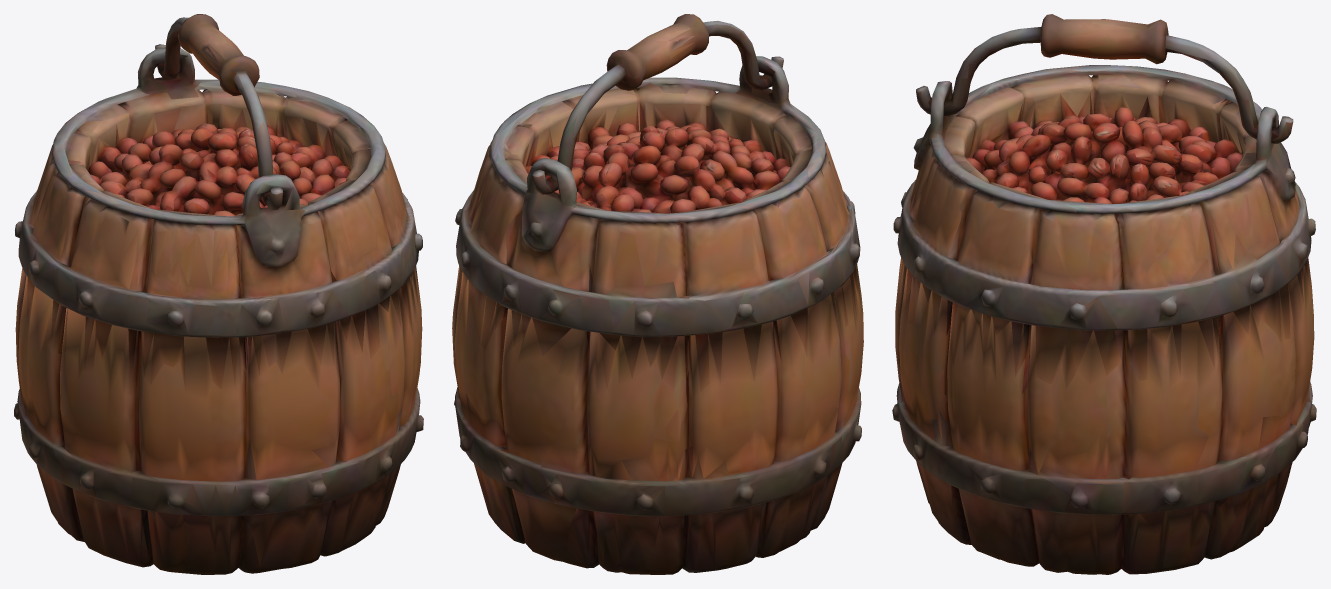
The model's file is KR_사물_s1_pat_bin.glb.
The picture shows the model from 3 angles, left to right: view 1: azimuth 30°, elevation 25°; view 2: azimuth 150°, elevation 25°; view 3: azimuth 270°, elevation 25°; orthographic projection. The views are drawn at different scales.
Parts seen in each view (by area): view 1: tripo_node_1d8ceb1d-0fea-493b-8ce6-94a284d0e224; view 2: tripo_node_1d8ceb1d-0fea-493b-8ce6-94a284d0e224; view 3: tripo_node_1d8ceb1d-0fea-493b-8ce6-94a284d0e224.
Boxes of the visible parts, bbox=[...] form: tripo_node_1d8ceb1d-0fea-493b-8ce6-94a284d0e224: bbox=[14, 14, 423, 574]; tripo_node_1d8ceb1d-0fea-493b-8ce6-94a284d0e224: bbox=[452, 14, 863, 574]; tripo_node_1d8ceb1d-0fea-493b-8ce6-94a284d0e224: bbox=[892, 14, 1316, 574].
Bounding box in the file's own units: 0.7695 × 0.9813 × 0.7748.
Materials: 1 (1 with a texture image).
